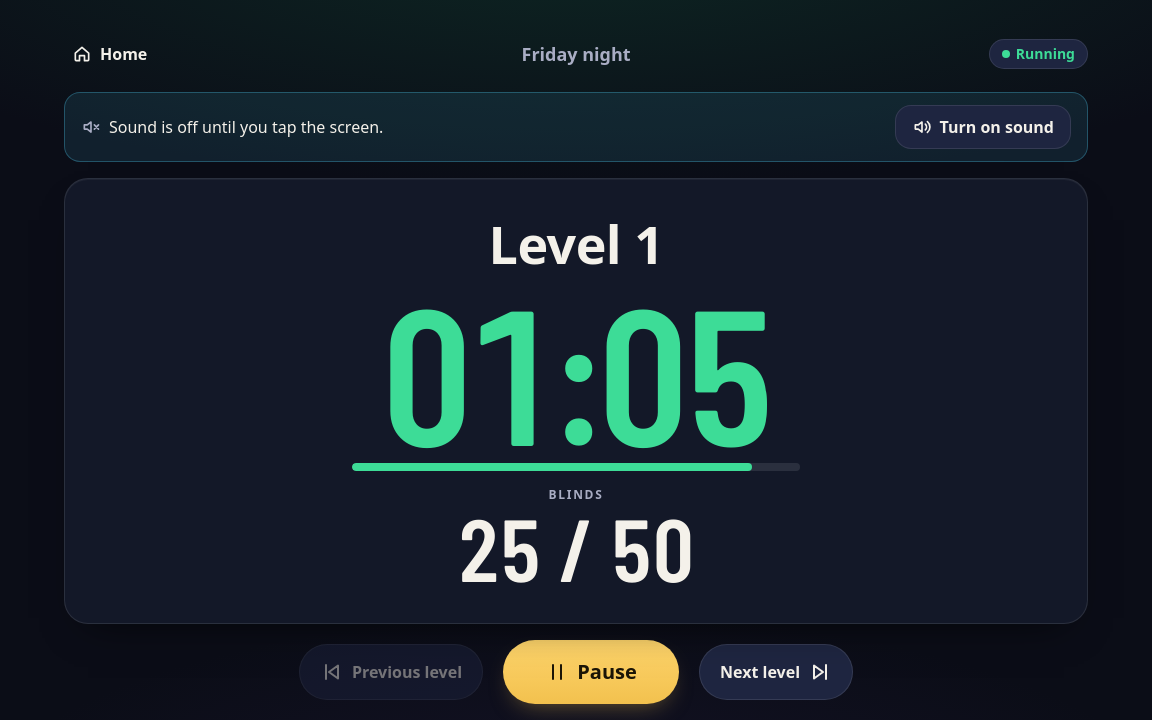
Test: live clock alerts › keeps sound off until a gesture, then sounds and shows each alert once
Expected: the text "01:05" is shown, [381,288,771,451]
Expected: the text "Sound is off until you tap the screen." is shown, [81,115,383,139]
Click the button "Turn on sound" at (983, 127), box [894,105,1071,149]
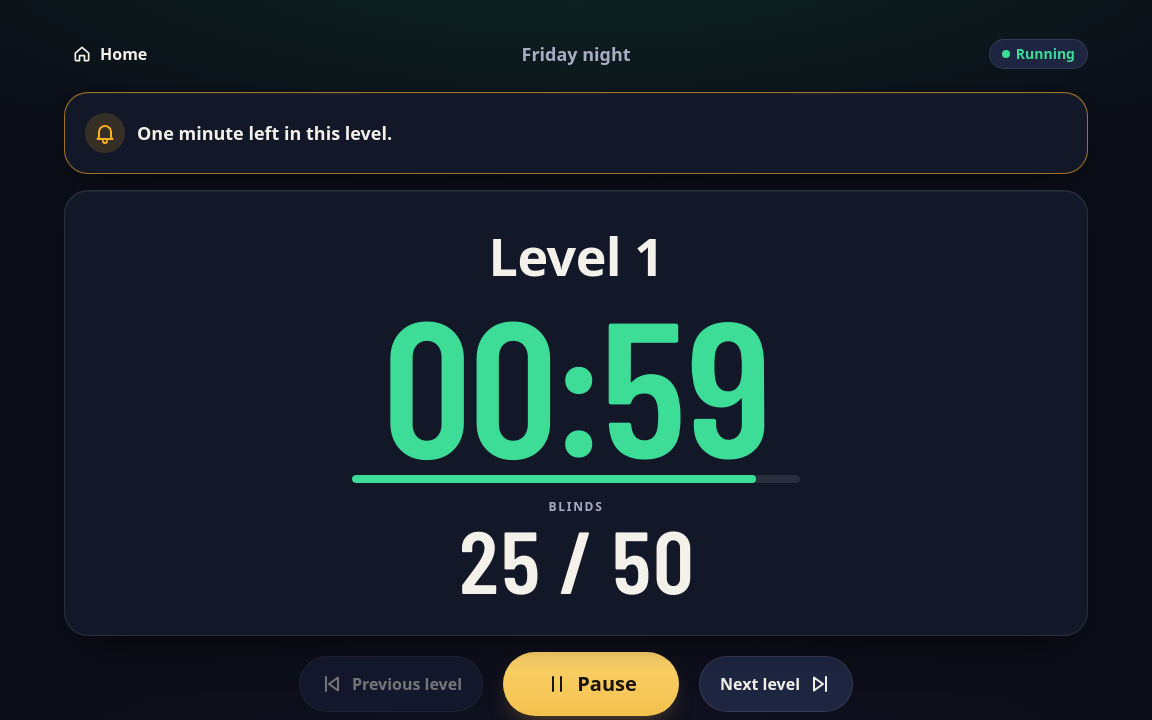
Result: the text "Sound is off until you tap the screen." is gone
Result: the message reads "One minute left in this level." at [137,121,392,145]
